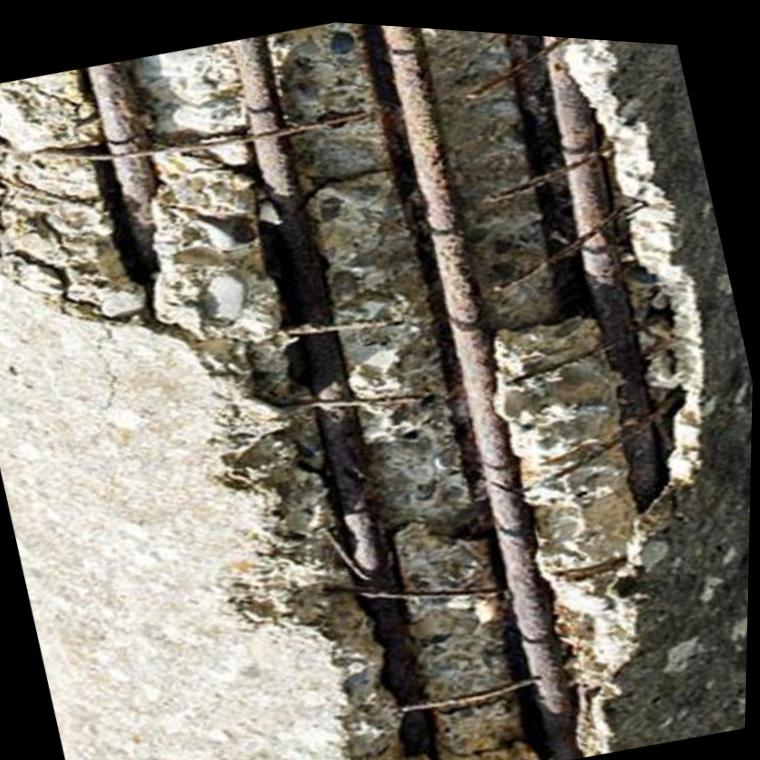crack: (97, 322, 119, 410)
damage: (0, 17, 709, 760)
